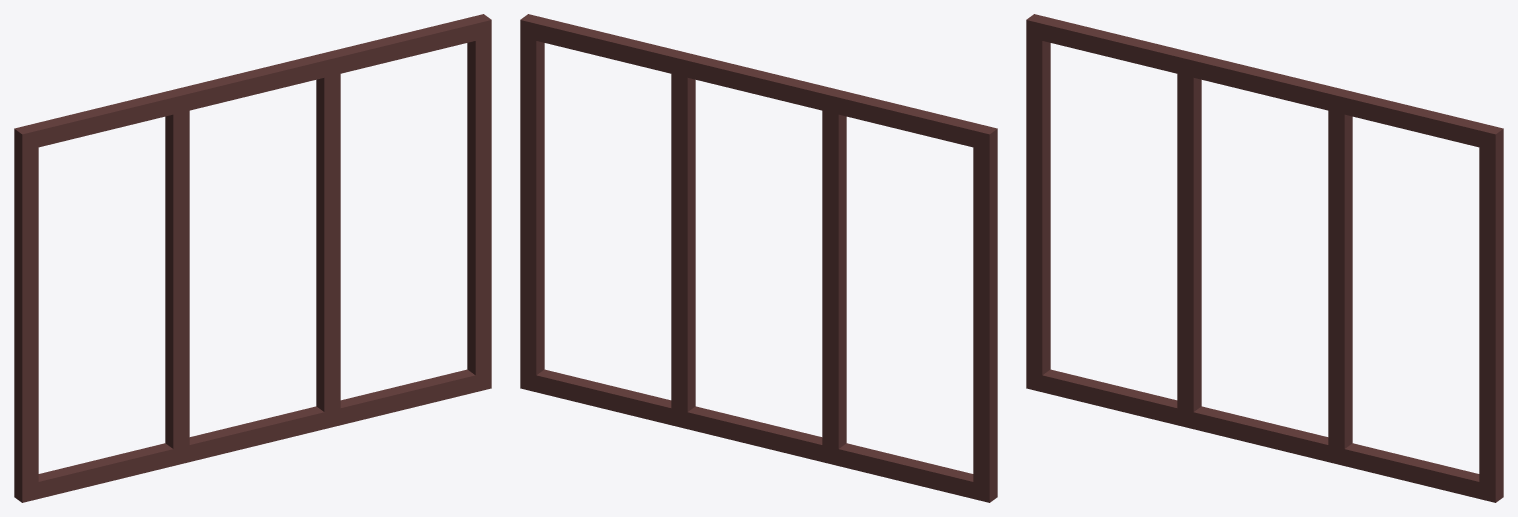
Rendered from DBK_WinWide_Wood_Full.fbx.
3 renders of one model, left to right at view 1: azimuth 30°, elevation 25°; view 2: azimuth 150°, elevation 25°; view 3: azimuth 330°, elevation 25°, orthographic.
Visible parts, largest first — view 1: DBK_WinWide_Wood_Full; view 2: DBK_WinWide_Wood_Full; view 3: DBK_WinWide_Wood_Full.
Part boxes in pixels (x1=…): DBK_WinWide_Wood_Full: x1=14, y1=14, x2=491, y2=502; DBK_WinWide_Wood_Full: x1=520, y1=14, x2=997, y2=502; DBK_WinWide_Wood_Full: x1=1026, y1=14, x2=1503, y2=502.
Bounding box in the file's own units: 160 × 120 × 4.75.
